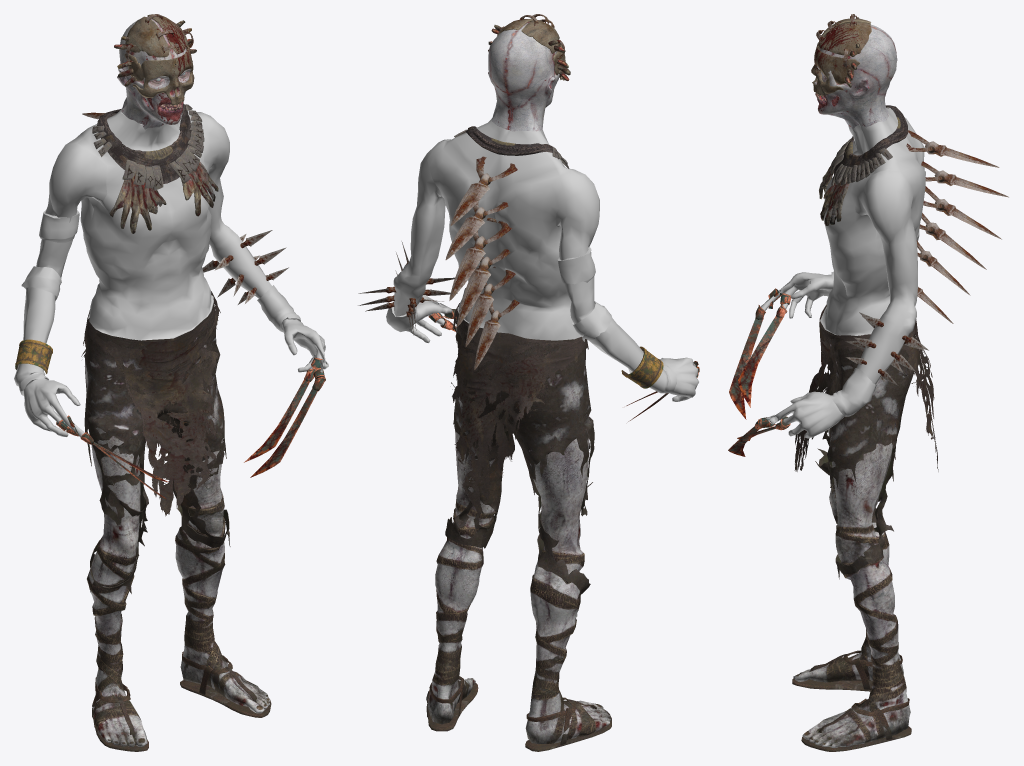
Rendered from zombie.obj.
The picture shows the model from 3 angles, left to right: view 1: azimuth 30°, elevation 25°; view 2: azimuth 150°, elevation 25°; view 3: azimuth 270°, elevation 25°; orthographic projection. The views are drawn at different scales.
Parts seen in each view (by area): view 1: 0, 3, 1, 5, 4, 2; view 2: 3, 0, 5, 1, 2, 4; view 3: 3, 0, 1, 2, 5, 4.
Boxes of the visible parts, x1,y1,x2,y2 form: 0: (14, 109, 328, 437); 3: (84, 303, 271, 751); 1: (15, 103, 325, 499); 5: (81, 291, 220, 516); 4: (114, 14, 196, 105); 2: (117, 16, 191, 129); 3: (426, 308, 611, 751); 0: (386, 118, 698, 401); 5: (451, 303, 590, 516); 1: (358, 126, 699, 421); 2: (488, 21, 559, 131); 4: (488, 14, 570, 80); 3: (792, 321, 914, 751); 0: (760, 108, 925, 438); 1: (728, 105, 1008, 456); 2: (814, 22, 897, 129); 5: (794, 304, 938, 471); 4: (811, 14, 871, 96).
Bounding box in the file's own units: 1.31 × 3.01 × 1.12.
